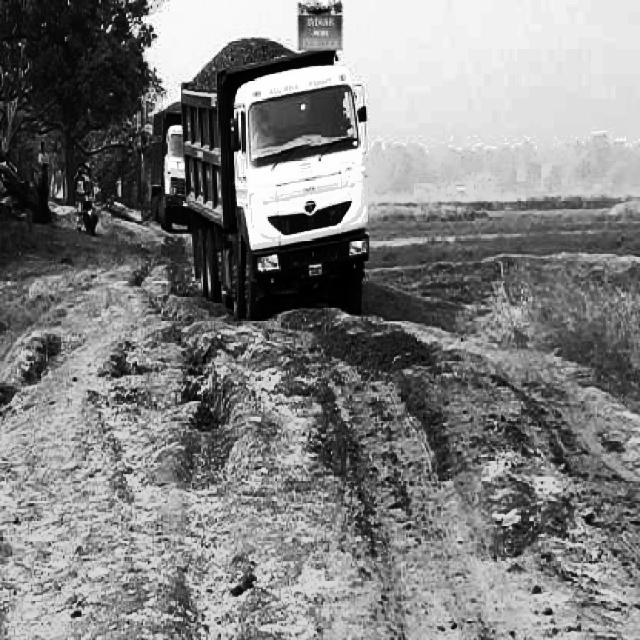HCV: (176, 77, 377, 303), (143, 111, 196, 229)
